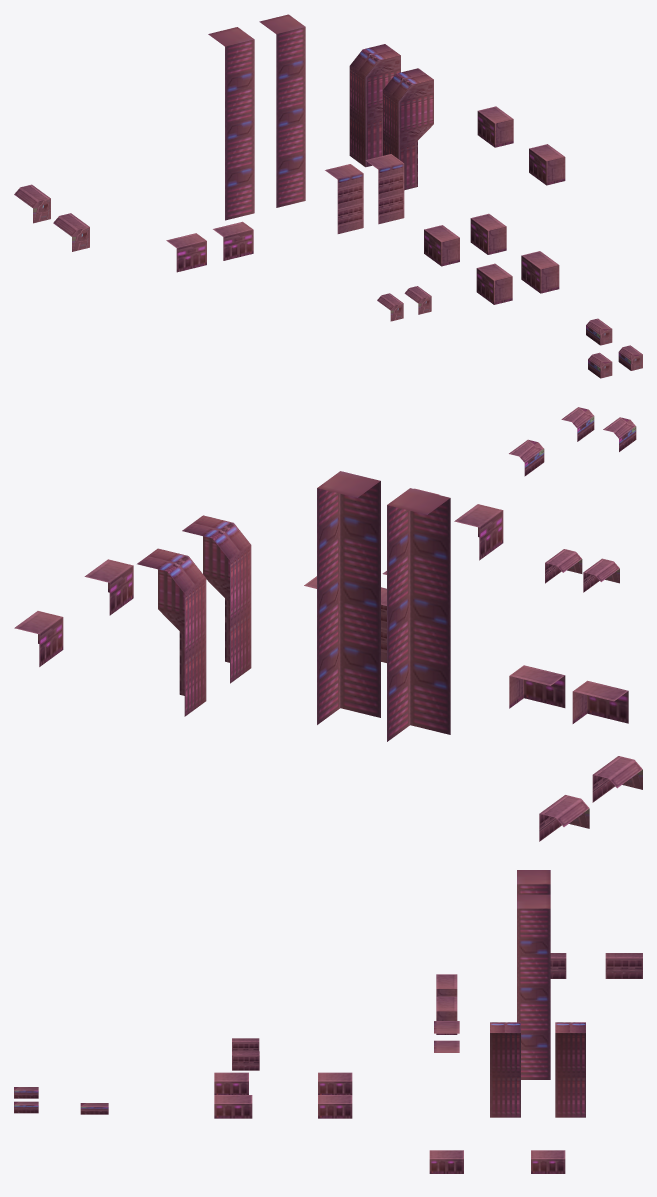
Rendered from track_la_sky_buildings_01.fbx.
3 renders of one model, top to bottom at view 1: azimuth 30°, elevation 25°; view 2: azimuth 150°, elevation 25°; view 3: azimuth 270°, elevation 25°, orthographic. The views are drawn at different scales.
Parts seen in each view (by area): view 1: track_la_sky_buildings_01; view 2: track_la_sky_buildings_01; view 3: track_la_sky_buildings_01.
Boxes of the visible parts, <box> form: track_la_sky_buildings_01: <box>14,14,642,378</box>; track_la_sky_buildings_01: <box>14,407,642,841</box>; track_la_sky_buildings_01: <box>14,870,642,1173</box>.
Bounding box in the file's own units: 17.54 × 6.58 × 21.94.
Materials: 1 (1 with a texture image).
